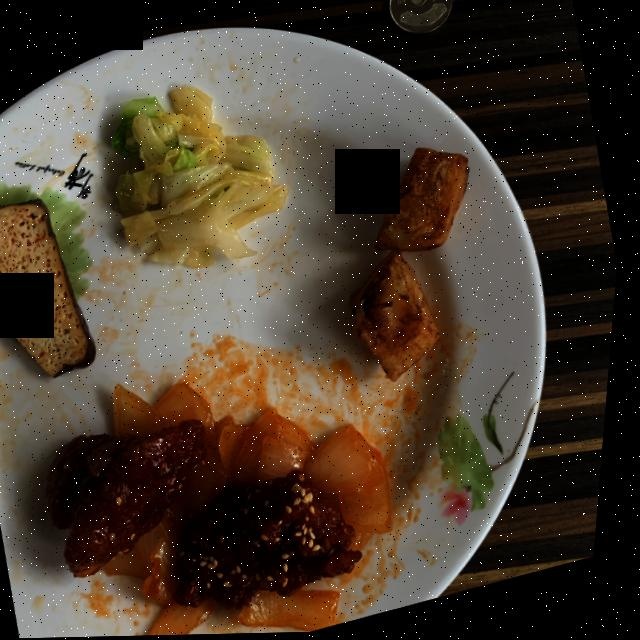cabbage: (114, 88, 290, 269)
coin: (387, 0, 451, 35)
firm tofu: (0, 200, 95, 377)
fried potato: (354, 150, 471, 383)
